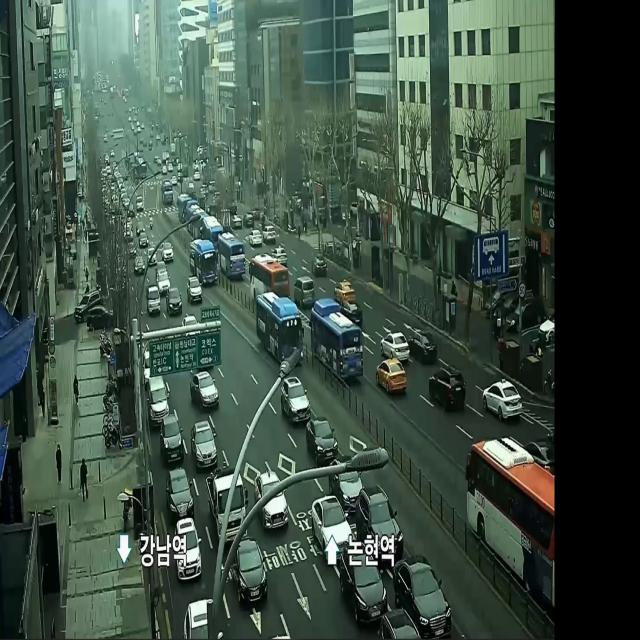car: (468, 431, 554, 610), (311, 293, 364, 382), (257, 288, 305, 368), (248, 252, 290, 306), (217, 230, 245, 280), (188, 238, 216, 284), (203, 217, 223, 257)
motorcycle: (394, 550, 452, 638), (355, 481, 404, 567), (340, 542, 387, 624), (312, 488, 352, 564), (233, 534, 270, 609), (255, 467, 289, 532), (428, 361, 466, 417), (483, 368, 522, 422), (165, 466, 195, 525), (330, 456, 362, 510), (175, 519, 201, 582), (306, 414, 338, 464), (281, 377, 311, 426), (191, 418, 217, 472), (376, 352, 407, 395), (190, 372, 221, 414), (146, 374, 170, 426), (160, 412, 183, 466), (408, 326, 438, 364), (380, 330, 411, 362), (294, 273, 315, 307), (334, 278, 356, 308), (146, 281, 162, 319), (186, 274, 203, 304), (156, 260, 170, 294), (167, 288, 182, 316), (312, 252, 328, 277), (248, 225, 263, 250), (161, 238, 175, 262), (264, 222, 277, 245), (134, 254, 146, 277)
truck: (206, 464, 247, 548)
